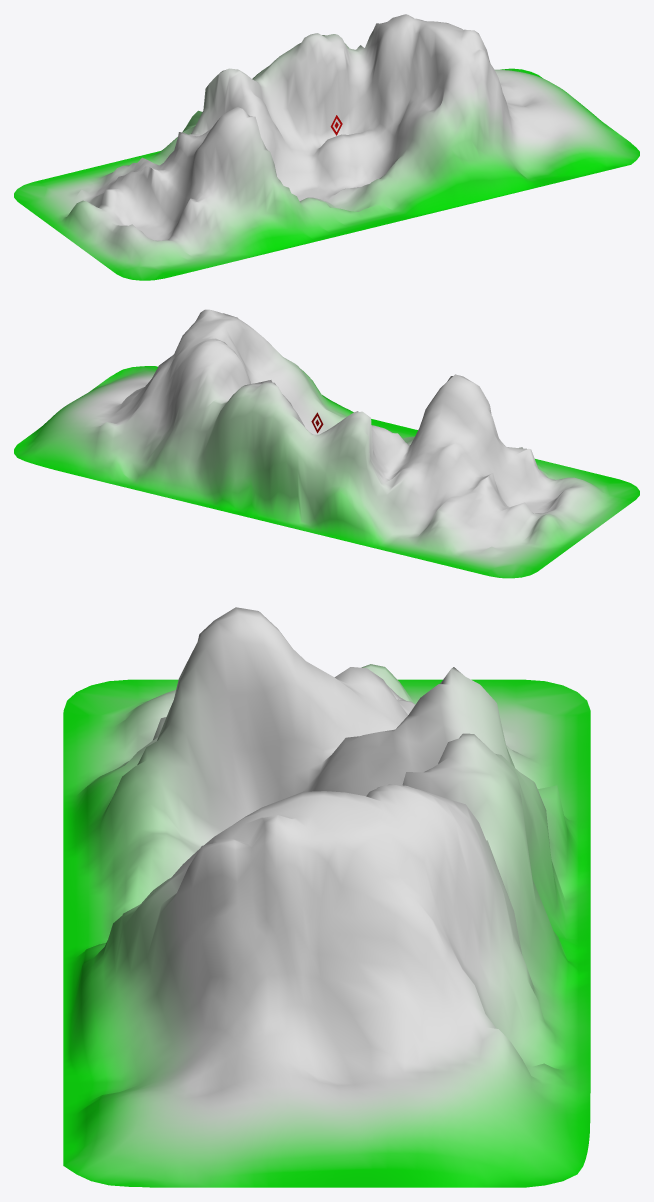
Rendered from Prop_HologramMap1.fbx.
3 views of the same model, one above another, from view 1: azimuth 30°, elevation 25°; view 2: azimuth 150°, elevation 25°; view 3: azimuth 270°, elevation 25° (orthographic). The views are drawn at different scales.
Parts seen in each view (by area): view 1: Prop_HologramMap1; view 2: Prop_HologramMap1; view 3: Prop_HologramMap1.
Boxes of the visible parts, <box> form: Prop_HologramMap1: <box>14,14,639,280</box>; Prop_HologramMap1: <box>14,309,639,578</box>; Prop_HologramMap1: <box>63,607,590,1187</box>.
Bounding box in the file's own units: 360 × 80.79 × 158.
